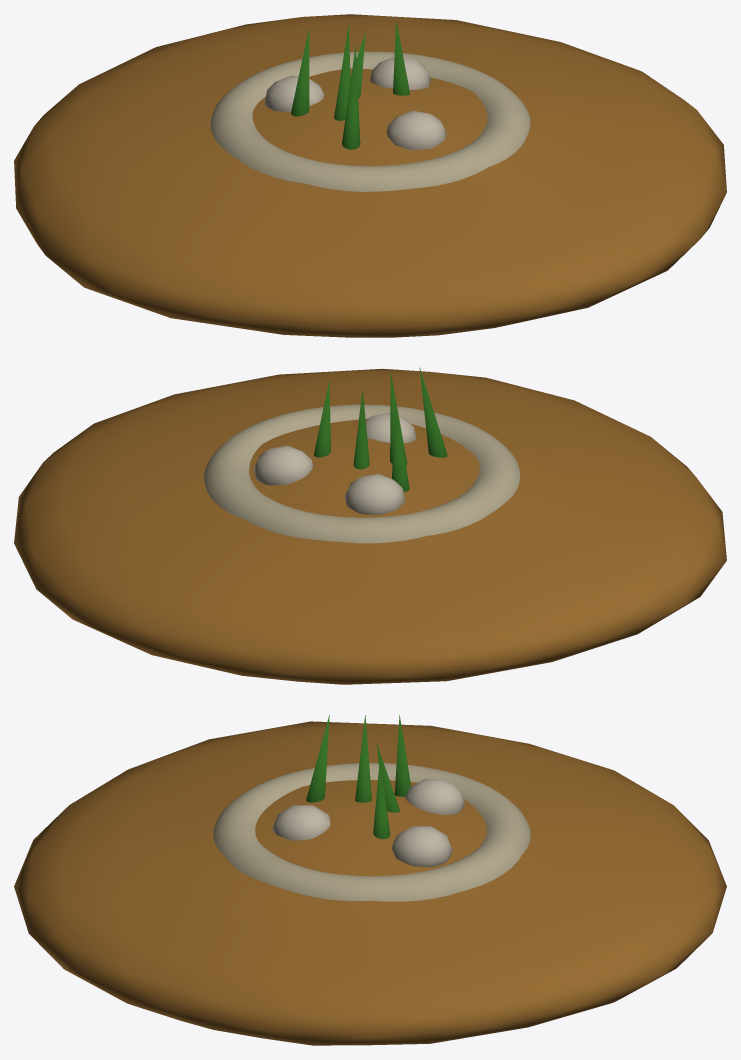
File: snake-nest.obj
3 renders of one model, top to bottom at view 1: azimuth 30°, elevation 25°; view 2: azimuth 150°, elevation 25°; view 3: azimuth 270°, elevation 25°, orthographic.
Parts seen in each view (by area): view 1: snake-nest; view 2: snake-nest; view 3: snake-nest.
Part boxes in pixels (x1,y1,x2,y2): snake-nest: (14, 14, 726, 337); snake-nest: (14, 367, 726, 684); snake-nest: (14, 714, 726, 1045).
Bounding box in the file's own units: 1.17 × 0.4189 × 1.14.
